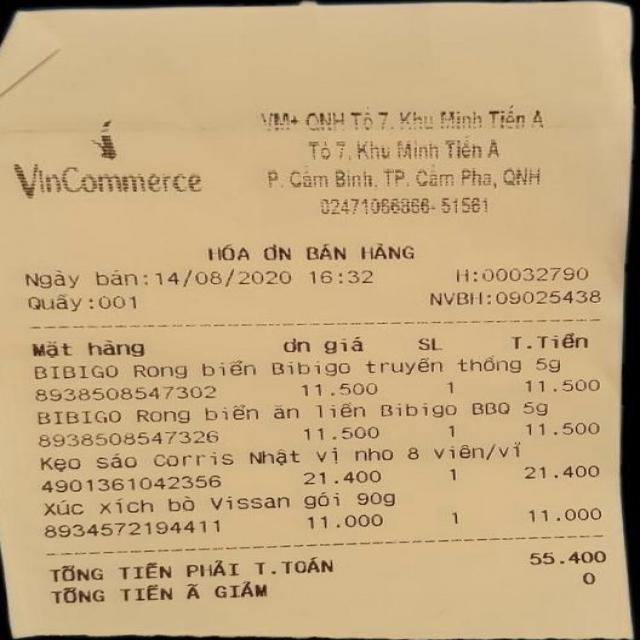Date: (150, 266, 299, 297)
Store_Name: (0, 106, 224, 205)
Total_Amount: (29, 544, 613, 582)
